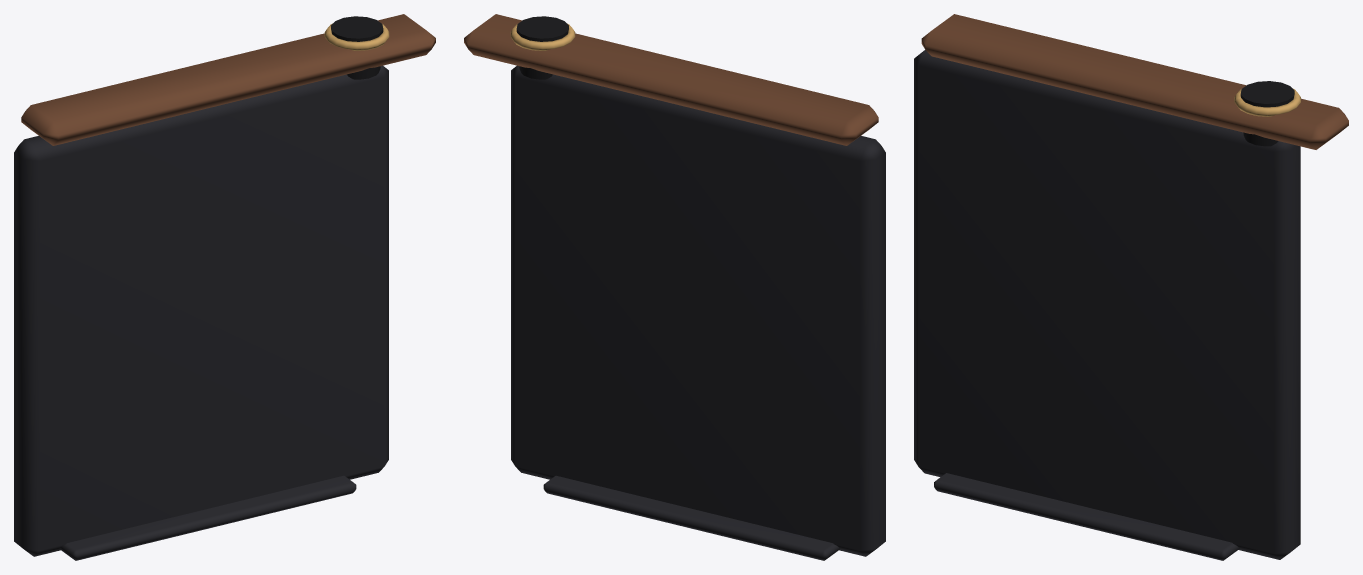
The model's file is arm_standard.glb.
3 renders of one model, left to right at view 1: azimuth 30°, elevation 25°; view 2: azimuth 150°, elevation 25°; view 3: azimuth 330°, elevation 25°, orthographic. The views are drawn at different scales.
Parts seen in each view (by area): view 1: Mesh_Panel, Mesh_Cap, Mesh_Foot, Mesh_CupWell, Mesh_CupRim; view 2: Mesh_Panel, Mesh_Cap, Mesh_Foot, Mesh_CupWell, Mesh_CupRim; view 3: Mesh_Panel, Mesh_Cap, Mesh_Foot, Mesh_CupWell, Mesh_CupRim.
Boxes of the visible parts, left/top/right/bottom form: Mesh_Panel: left=14, top=65, right=388, bottom=556; Mesh_Cap: left=21, top=14, right=435, bottom=145; Mesh_Foot: left=60, top=475, right=356, bottom=560; Mesh_CupWell: left=331, top=16, right=383, bottom=79; Mesh_CupRim: left=324, top=23, right=389, bottom=50; Mesh_Panel: left=511, top=65, right=885, bottom=556; Mesh_Cap: left=464, top=14, right=878, bottom=145; Mesh_Foot: left=543, top=475, right=839, bottom=560; Mesh_CupWell: left=516, top=16, right=568, bottom=79; Mesh_CupRim: left=510, top=23, right=575, bottom=50; Mesh_Panel: left=914, top=50, right=1300, bottom=559; Mesh_Cap: left=921, top=14, right=1348, bottom=149; Mesh_Foot: left=934, top=473, right=1239, bottom=560; Mesh_CupWell: left=1240, top=81, right=1294, bottom=146; Mesh_CupRim: left=1234, top=88, right=1300, bottom=116.
Size of the model in its own units: 0.6 by 0.63 by 0.11.
